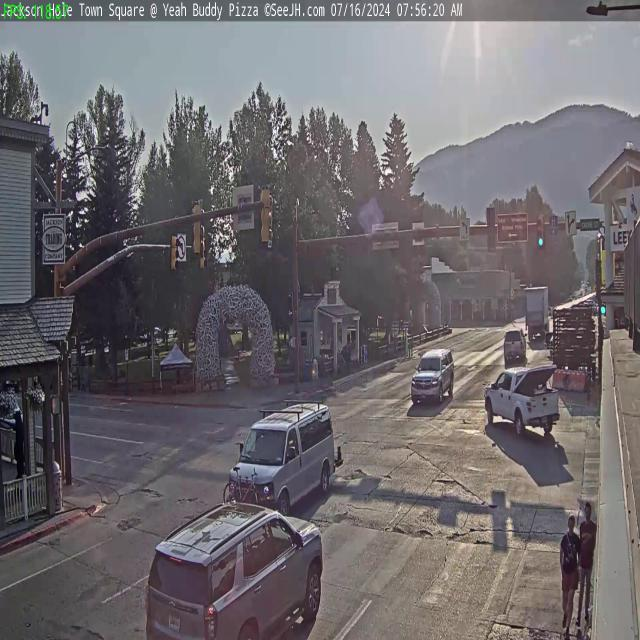bike: (220, 468, 257, 508)
person: (560, 512, 579, 622), (579, 501, 594, 619)
pickup: (484, 365, 559, 434)
suv: (147, 505, 324, 640), (410, 348, 454, 408), (503, 330, 528, 358)
traffic light: (260, 183, 272, 247), (192, 204, 202, 256), (487, 207, 497, 253), (536, 214, 545, 249), (200, 236, 208, 270), (172, 236, 179, 272)
truck: (523, 287, 552, 340)
van: (226, 396, 342, 508)
